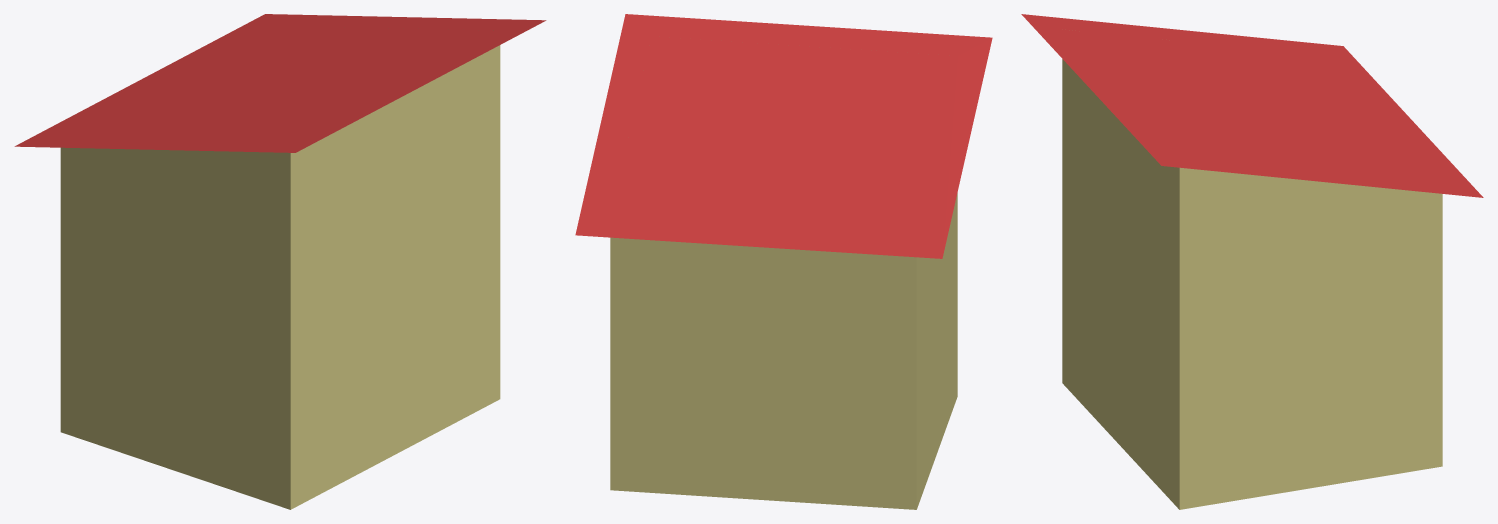
3 renders of one model, left to right at view 1: azimuth 30°, elevation 25°; view 2: azimuth 150°, elevation 25°; view 3: azimuth 270°, elevation 25°, orthographic. The views are drawn at different scales.
Bounding box in the file's own units: 7.63 × 7.28 × 6.27.
